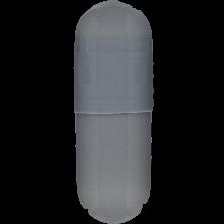68084-052: (0, 0, 224, 224)
